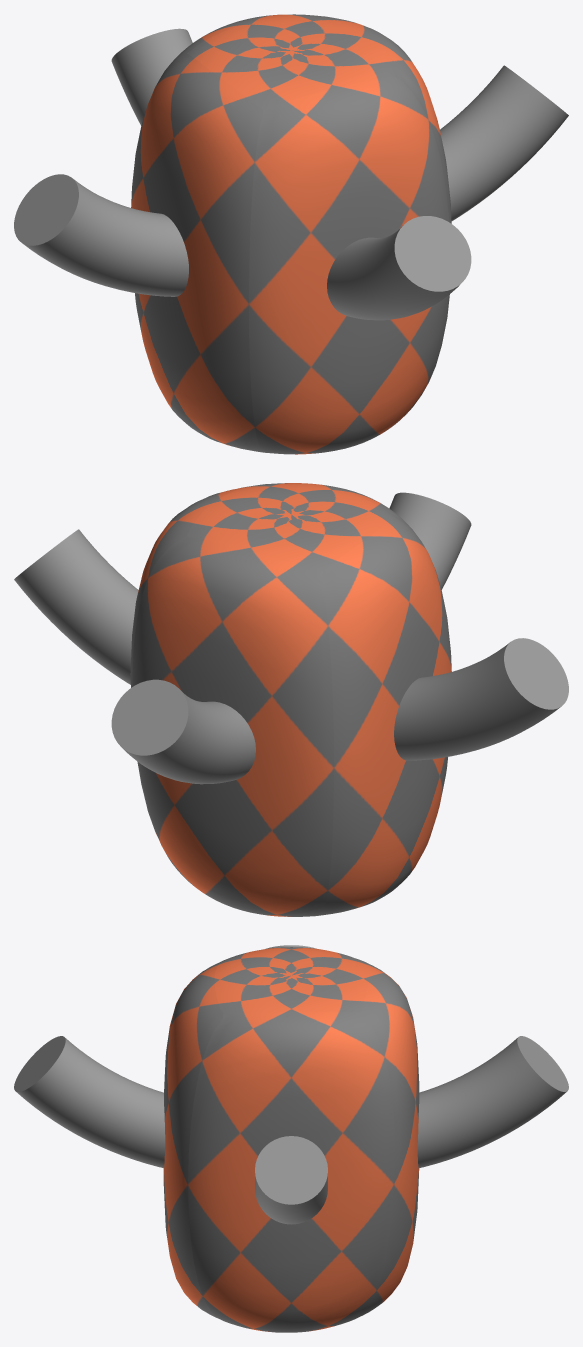
Rendered from Body(Oblong)+Colour(More_Orange)+Pattern(Diamond)+Arm_Angle(Bent_Up).fbx.
The picture shows the model from 3 angles, top to bottom: view 1: azimuth 30°, elevation 25°; view 2: azimuth 150°, elevation 25°; view 3: azimuth 270°, elevation 25°; orthographic projection. The views are drawn at different scales.
Parts seen in each view (by area): view 1: Body(Oblong)+Colour(More_Orange)+Pattern(Diamond)+Arm_Angle( (×5); view 2: Body(Oblong)+Colour(More_Orange)+Pattern(Diamond)+Arm_Angle( (×5); view 3: Body(Oblong)+Colour(More_Orange)+Pattern(Diamond)+Arm_Angle( (×4).
Boxes of the visible parts, x1,y1,x2,y2 form: Body(Oblong)+Colour(More_Orange)+Pattern(Diamond)+Arm_Angle( (×5): (14, 14, 568, 454); Body(Oblong)+Colour(More_Orange)+Pattern(Diamond)+Arm_Angle( (×5): (14, 483, 568, 916); Body(Oblong)+Colour(More_Orange)+Pattern(Diamond)+Arm_Angle( (×4): (14, 947, 568, 1332).
Size of the model in its own units: 60.67 by 40 by 60.67.
2 materials, 1 textured.
